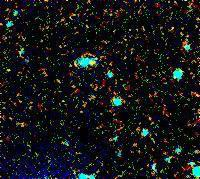star: (76, 48, 106, 78)
